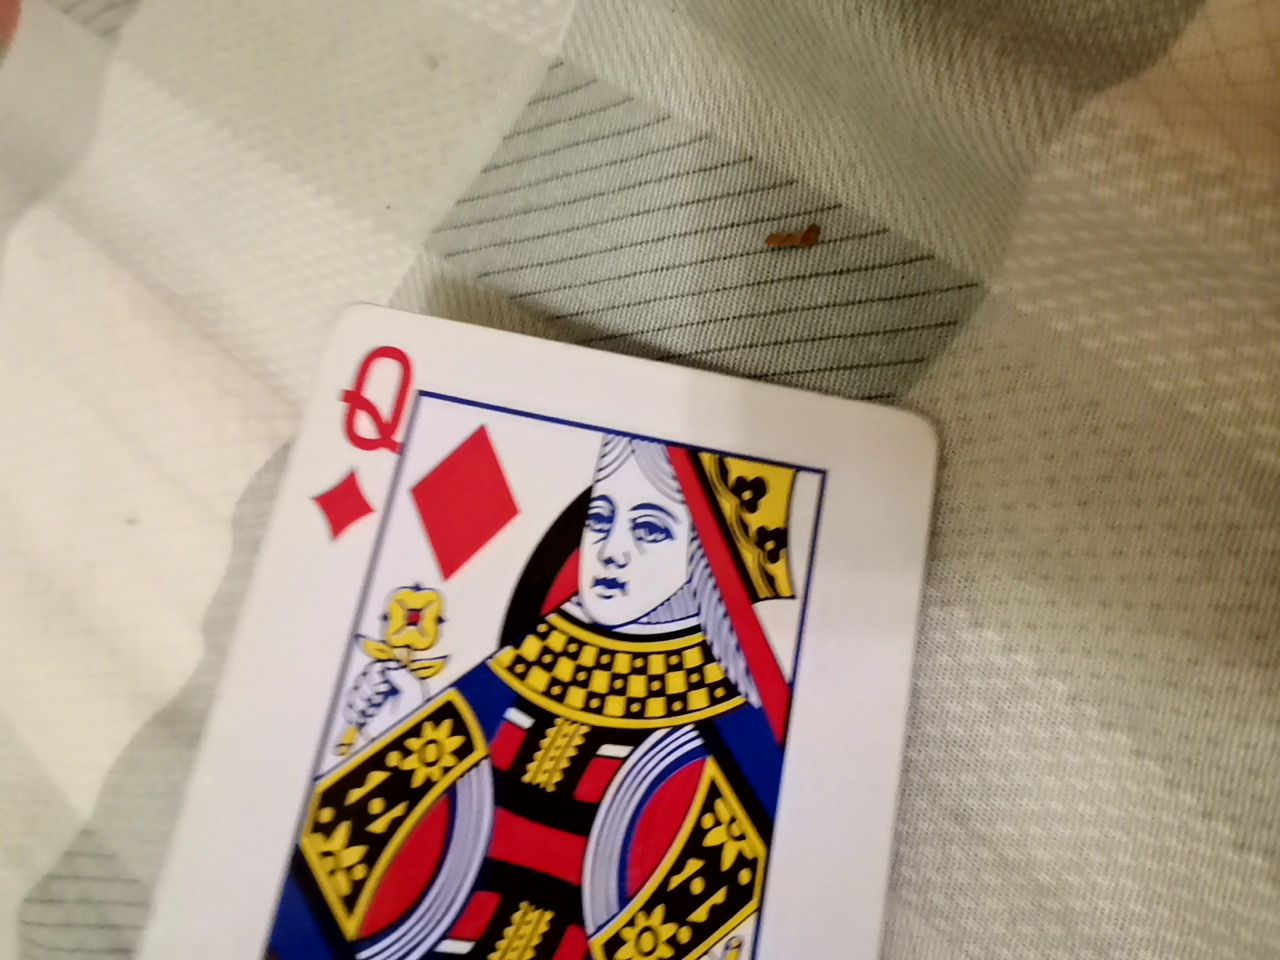fk q: (37, 275, 954, 955)
